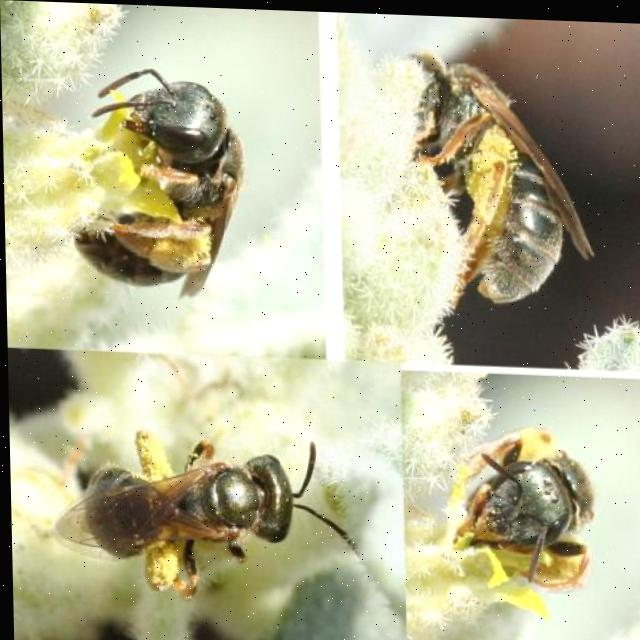Seladonia: (44, 422, 365, 594), (397, 34, 589, 306), (67, 63, 268, 321), (451, 409, 595, 599)
